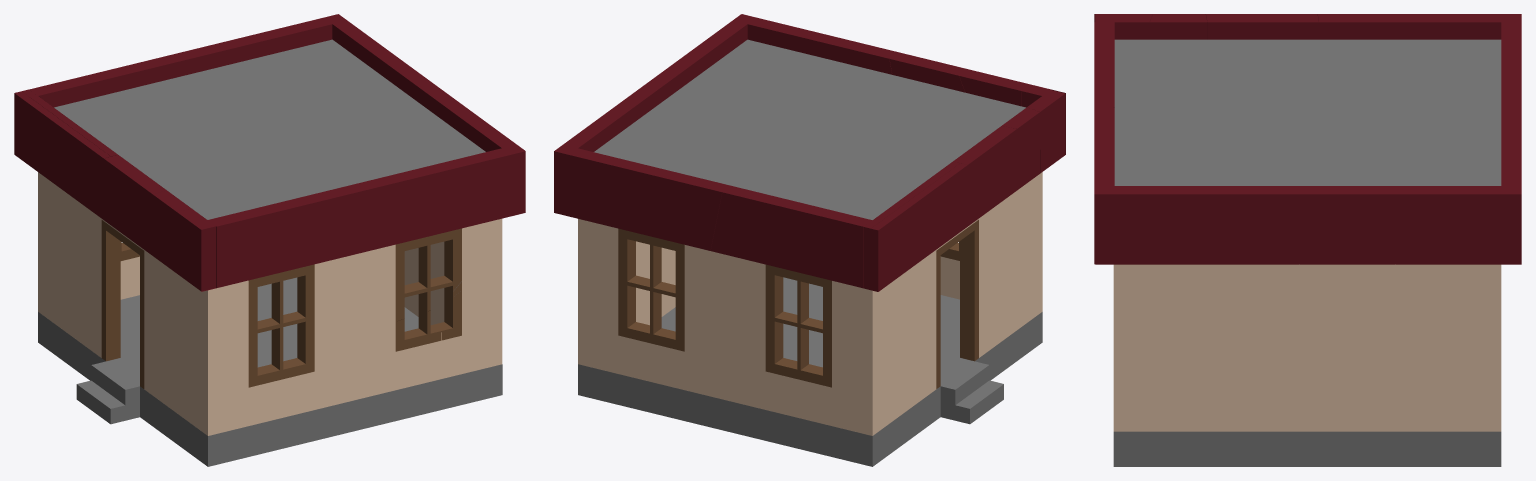
The model's file is 1floor_build_breakable.fbx.
3 renders of one model, left to right at view 1: azimuth 30°, elevation 25°; view 2: azimuth 150°, elevation 25°; view 3: azimuth 270°, elevation 25°, orthographic. The views are drawn at different scales.
Visible parts, largest first — view 1: Border, Wall_window, Floor, Floors_cell.002, Floors_cell.001_cell, Floors_cell, Wall_window_cell.010, Window, Wall_Door_cell.002, Floors_cell.001_cell.001, Border_cell.004_cell, Wall_Door (+27 smaller); view 2: Wall_window, Floor, Floors_cell.002, Floors_cell, border_cell.003, Border_cell.002, Window, Floors_cell.001_cell, Border, Wall_Door_cell.002, Border_cell.004_cell, Floors_cell.001_cell.001 (+28 smaller); view 3: Wall, Floors_cell.002, Floors_cell.001_cell, Border_cell.004_cell.002, Floor, Floors_cell, border_cell.002_cell, Border, Floors_cell.001_cell.001, border_cell.002_cell.001, border_cell.002_cell.002, Border_cell.004_cell.004 (+6 smaller).
Part boxes in pixels (x1,y1,x2,y2): Border: (23,20,525,291); Wall_window: (120,222,487,432); Floor: (38,277,502,466); Floors_cell.002: (63,114,338,219); Floors_cell.001_cell: (54,57,332,137); Floors_cell: (271,102,485,187); Wall_window_cell.010: (222,297,405,430); Window: (120,230,454,387); Wall_Door_cell.002: (54,191,176,412); Floors_cell.001_cell.001: (262,39,416,122); Border_cell.004_cell: (14,91,110,219); Wall_Door: (38,197,222,435); Wall_window: (592,222,959,432); Floor: (578,277,1042,466); Floors_cell.002: (810,75,1025,219); Floors_cell: (663,39,894,137); border_cell.003: (568,148,729,250); Border_cell.002: (710,192,863,288); Window: (618,229,959,387); Floors_cell.001_cell: (667,122,860,217); Border: (561,14,1065,226); Wall_Door_cell.002: (888,208,1011,368); Border_cell.004_cell: (871,163,967,291); Floors_cell.001_cell.001: (594,101,746,169); Wall: (1113,264,1501,431); Floors_cell.002: (1114,39,1500,121); Floors_cell.001_cell: (1307,40,1501,163); Border_cell.004_cell.002: (1095,191,1298,264); Floor: (1113,431,1501,466); Floors_cell: (1114,121,1307,185); border_cell.002_cell: (1298,186,1410,264); Border: (1094,14,1520,264); Floors_cell.001_cell.001: (1307,156,1501,185); border_cell.002_cell.001: (1409,186,1521,229); border_cell.002_cell.002: (1396,229,1521,264); Border_cell.004_cell.004: (1318,18,1521,39).
Size of the model in its own units: 460 by 320 by 441.
